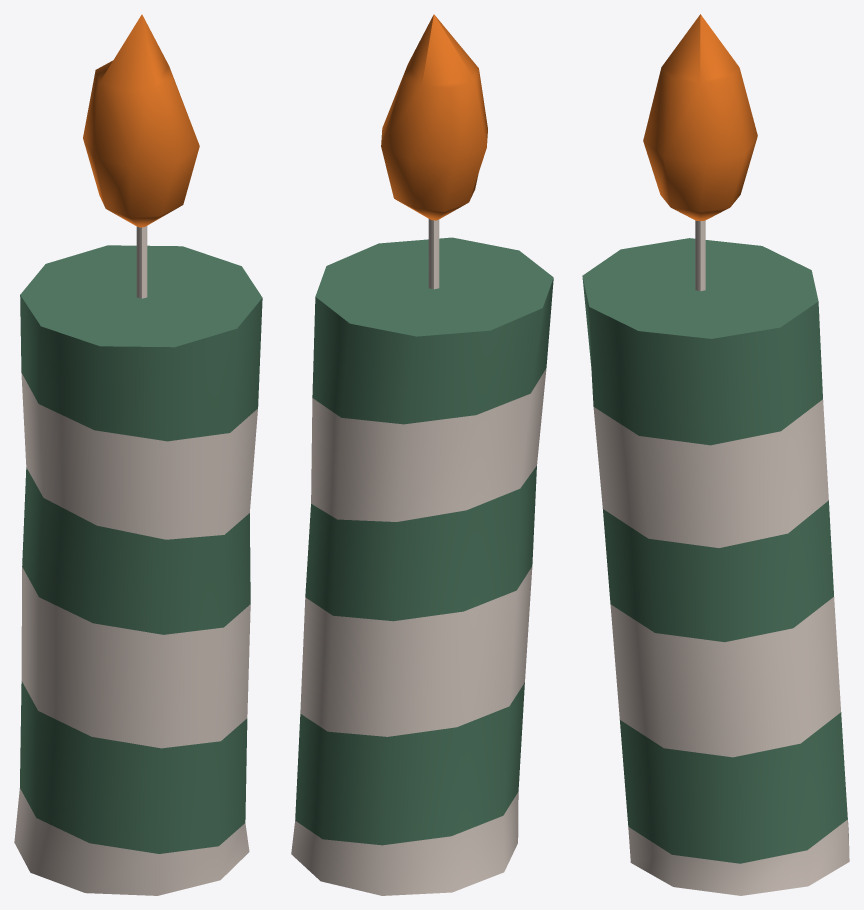
The model's file is Light_2_231109.glb.
3 renders of one model, left to right at view 1: azimuth 30°, elevation 25°; view 2: azimuth 150°, elevation 25°; view 3: azimuth 270°, elevation 25°, orthographic. The views are drawn at different scales.
Parts seen in each view (by area): view 1: Light_2; view 2: Light_2; view 3: Light_2.
Boxes of the visible parts, <box> form: Light_2: <box>14,14,262,895</box>; Light_2: <box>291,14,553,895</box>; Light_2: <box>582,14,849,895</box>.
Bounding box in the file's own units: 0.3414 × 1.27 × 0.37.
1 material, 1 textured.
